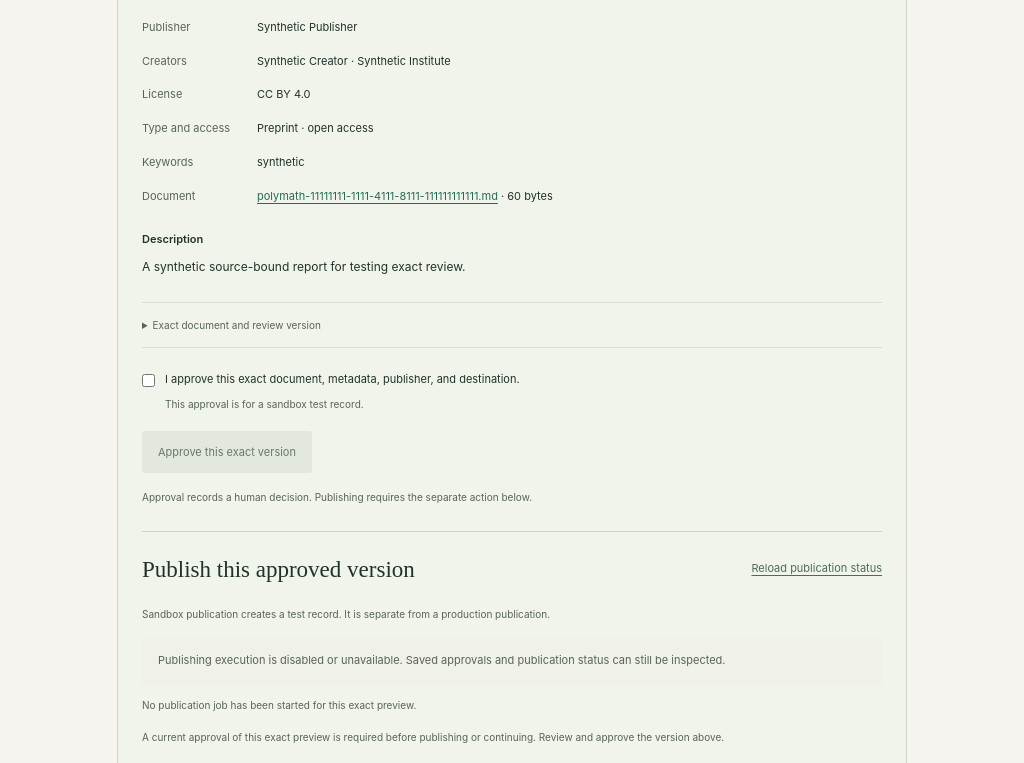
Scenario: human approval of exact saved publication versions › clears only publisher authorization when its CSRF/session expires
(page scrolled)
Click the checkbox labelled "I approve this exact document, metadata, publisher, and destination" at coordinates (148, 381), box [142,374,155,387]
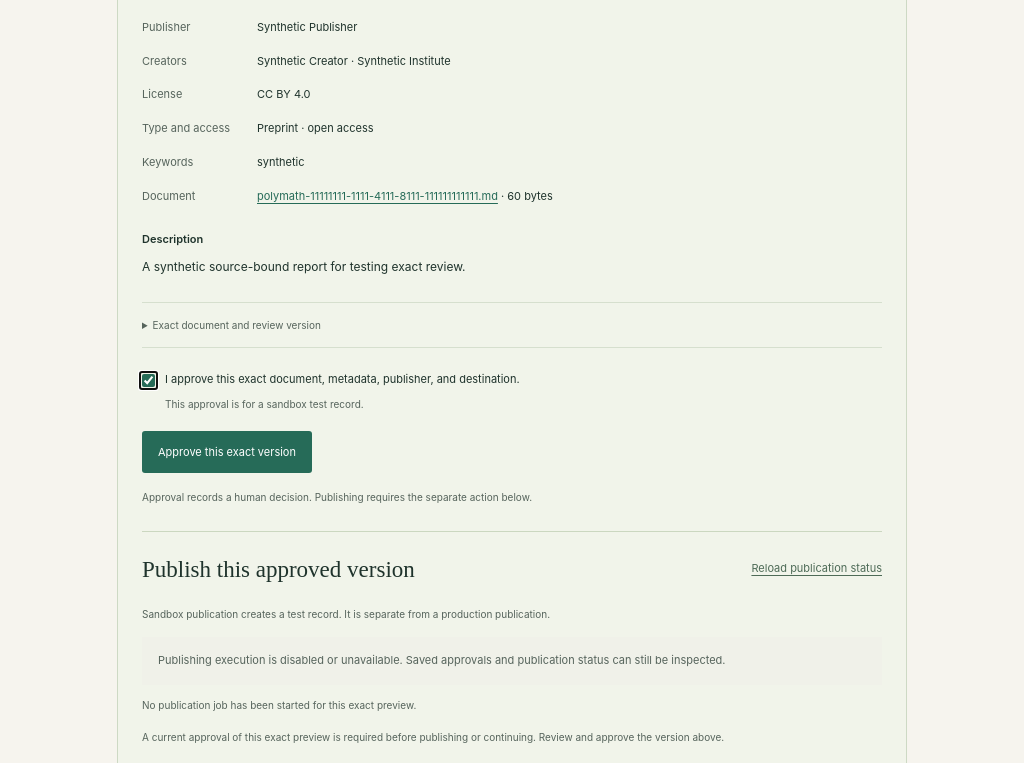
Click the button "Approve this exact version" at coordinates (227, 452), box [142,431,312,473]
(page scrolled)
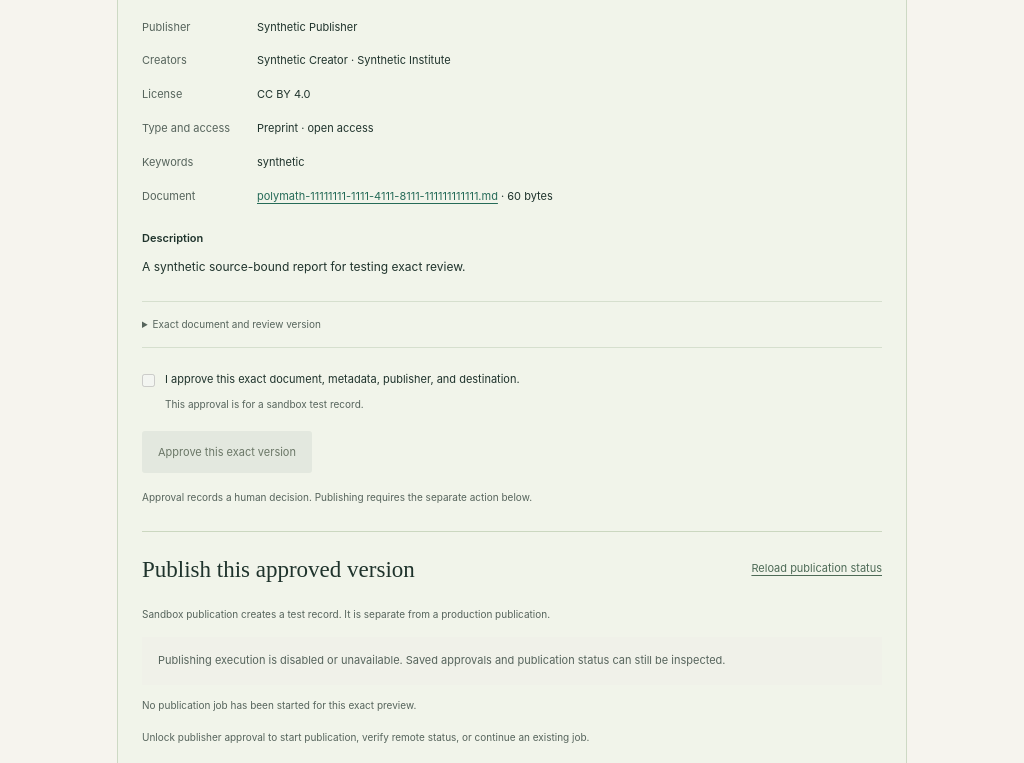
Now the checkbox labelled "I approve this exact document, metadata, publisher, and destination" is not checked, box [142,374,155,387]
Now the checkbox labelled "I approve this exact document, metadata, publisher, and destination" is disabled, box [142,374,155,387]
